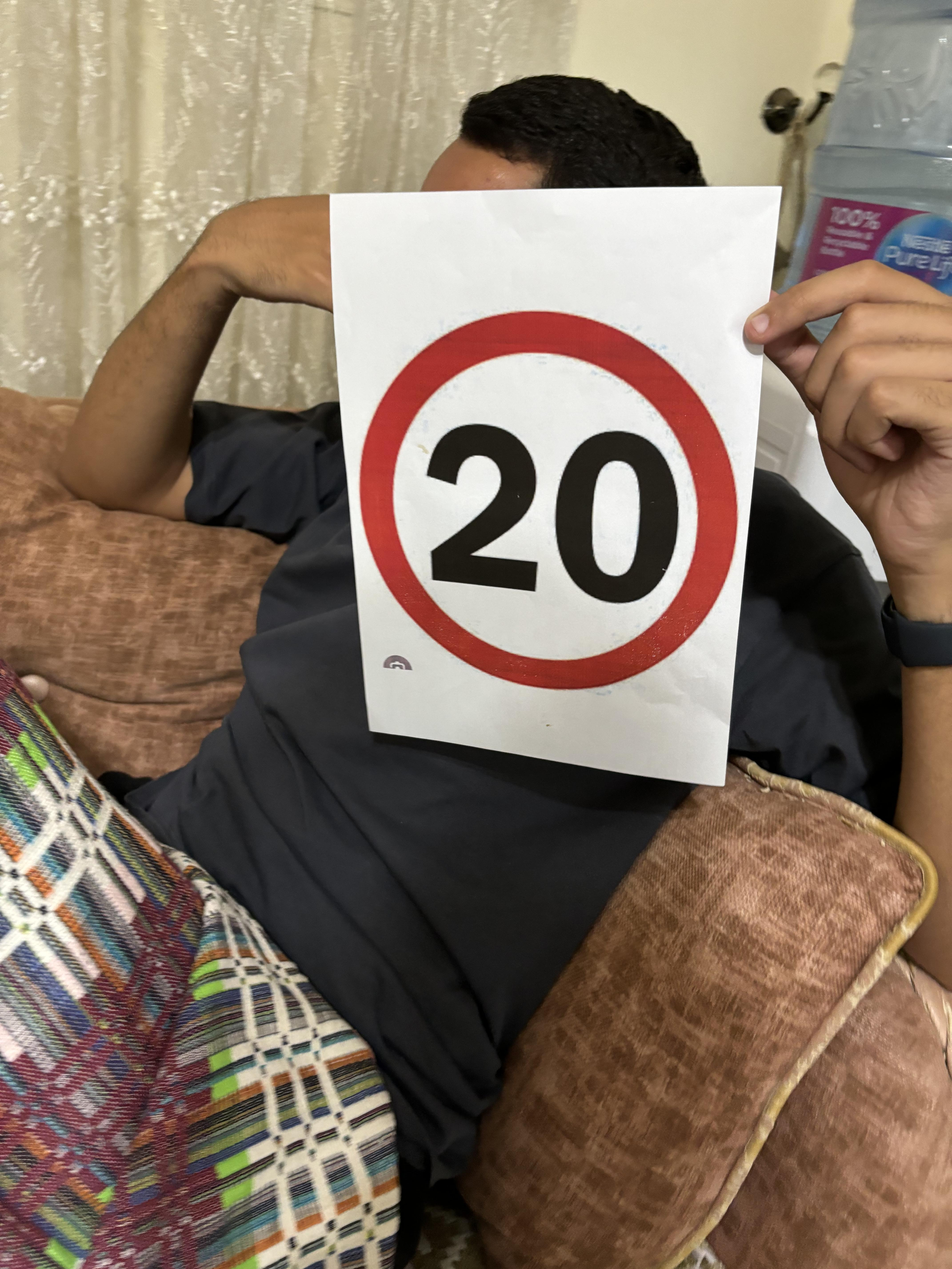20-Speed: (354, 305, 747, 671)
